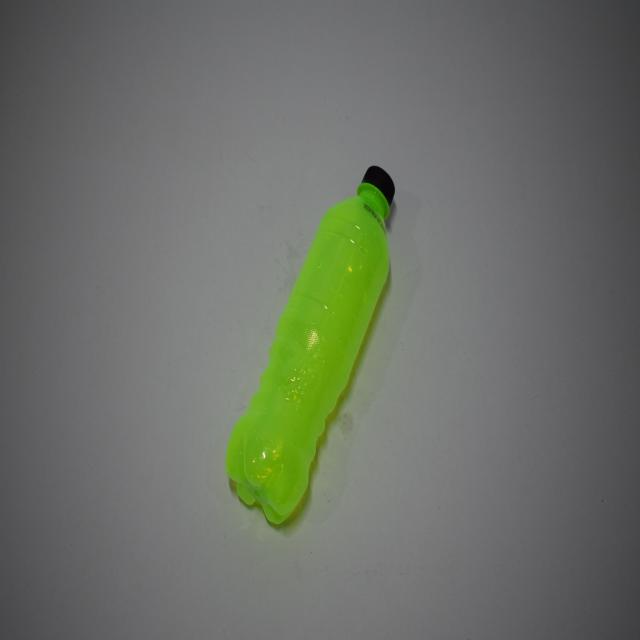empty: (225, 166, 395, 524)
